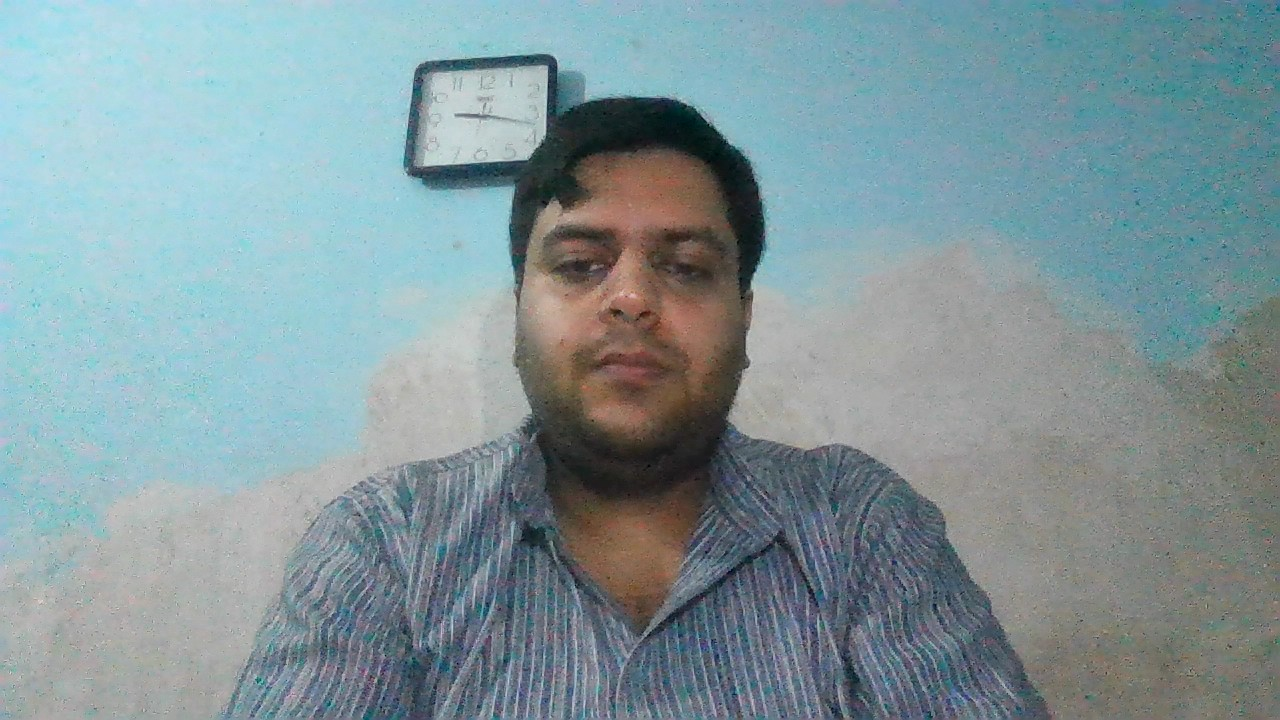No Mask: (509, 287, 755, 484)
